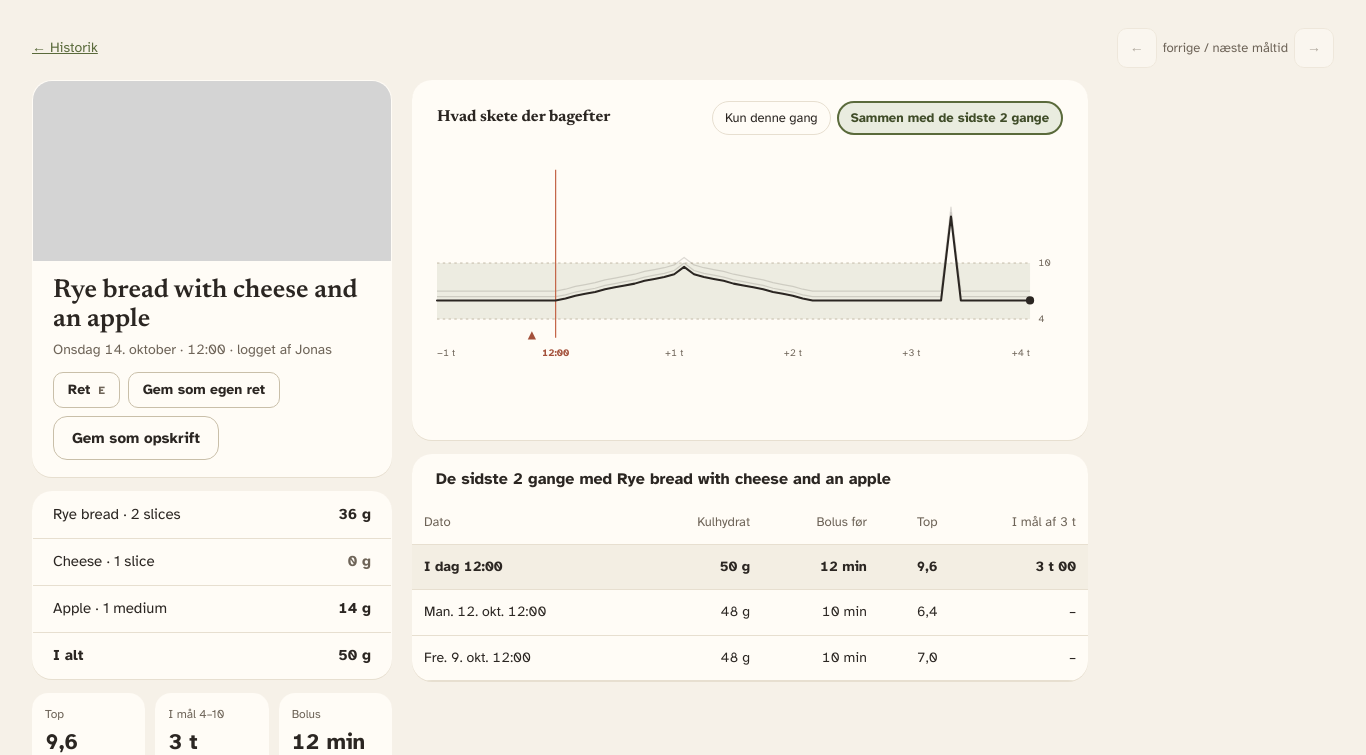
Test: save as own dish › copies the photo and retries its upload without creating a duplicate dish
Click the button "Gem som egen ret": x=204, y=390 [128,372,280,408]
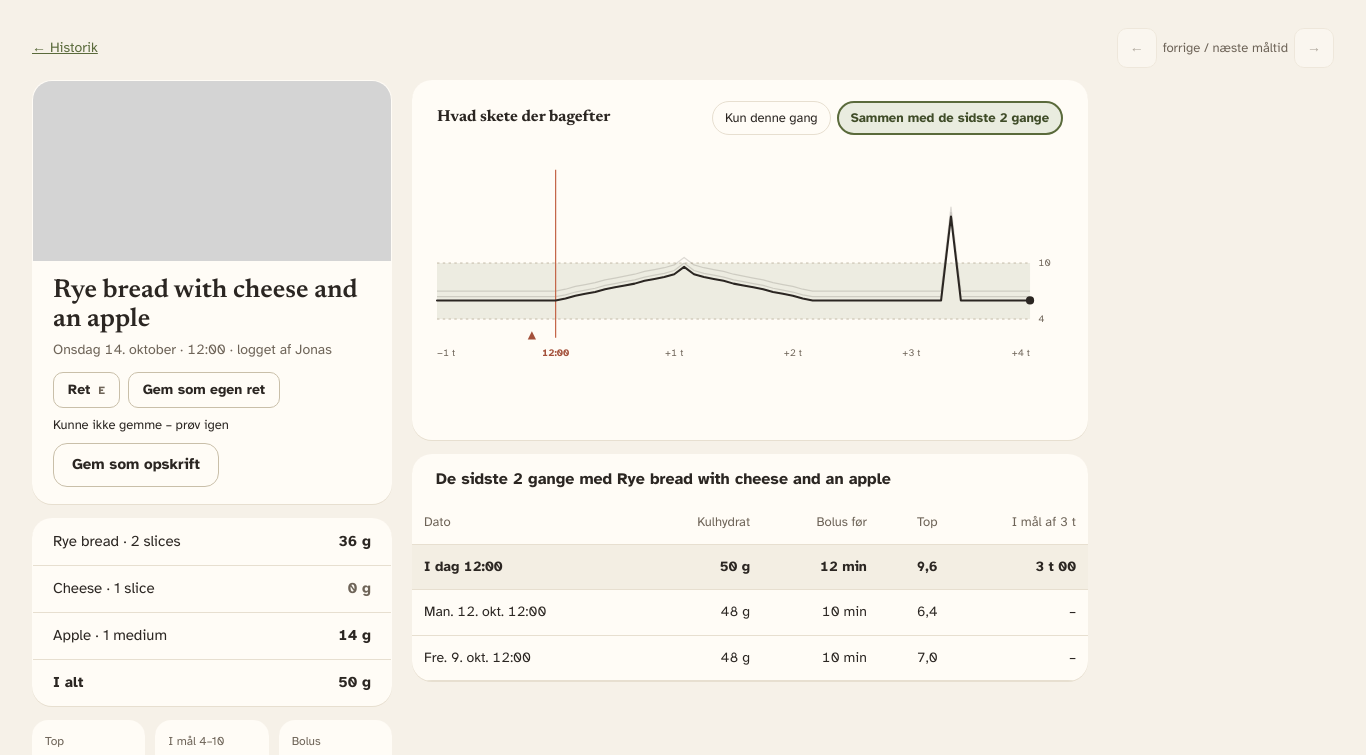
expect the message "Kunne ikke gemme – prøv igen" is shown: met, box [53,416,229,435]
Click the button "Gem som egen ret": x=204, y=390 [128,372,280,408]
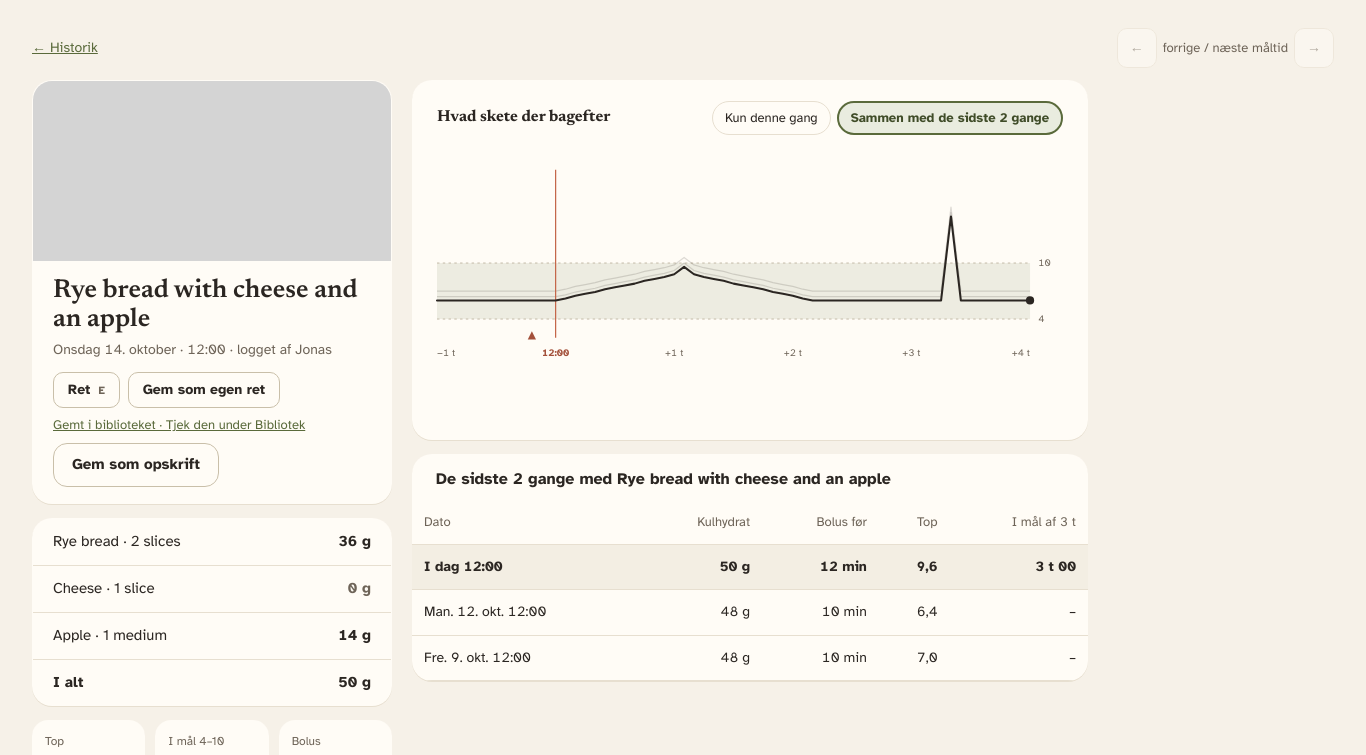
expect the link "Gemt i biblioteket · Tjek den under Bibliotek" is shown: met, box [53,416,305,435]
